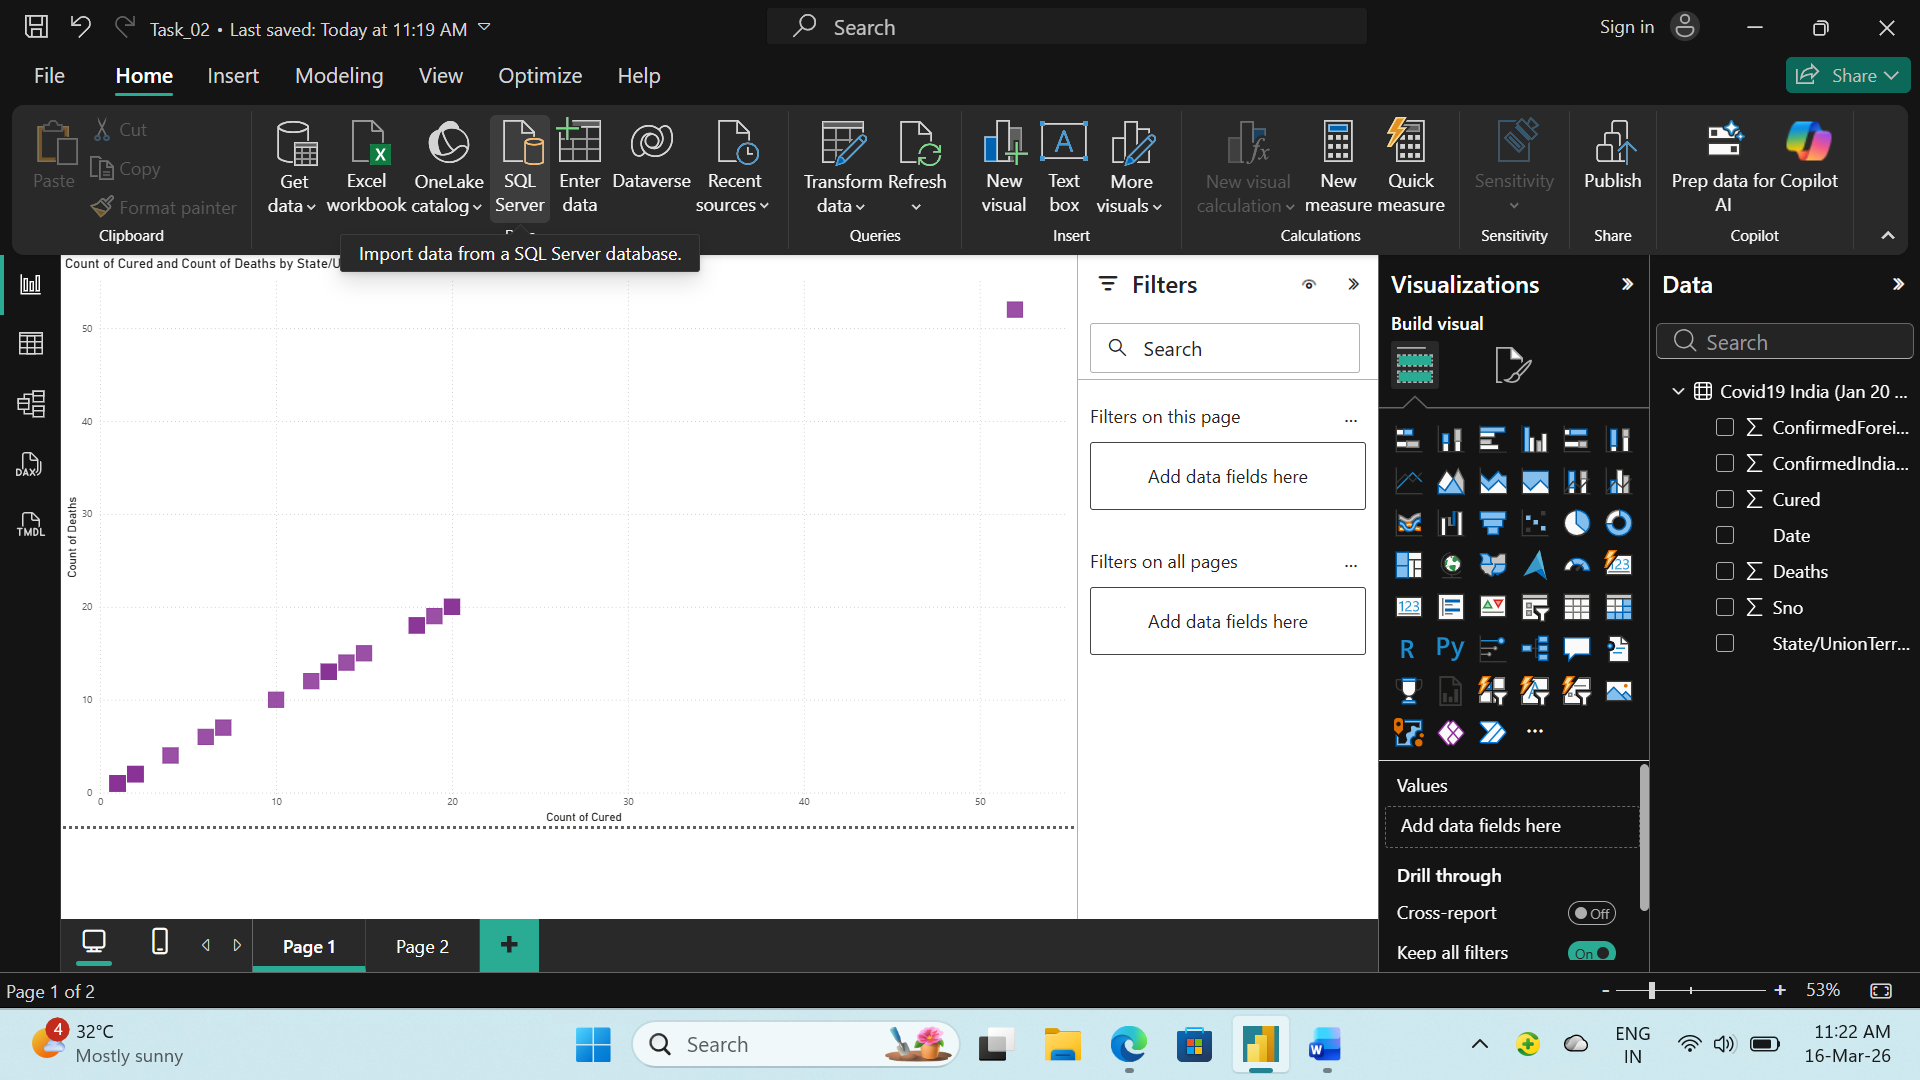

The page's visual inventory and layout, read from the dashboard file:
{"tool":"powerbi","page":{"name":"Page 1","canvas":[1280,720],"ordinal":0},"visuals":[{"type":"scatterChart","fields":{"X":["CountNonNull(Covid19 India (Jan 20 - Mar 20).Cured)"],"Category":["Covid19 India (Jan 20 - Mar 20).State/UnionTerritory"],"Y":["CountNonNull(Covid19 India (Jan 20 - Mar 20).Deaths)"]},"box":[0,0,1280,720],"z":0}]}

Visuals, with their boxes on the page's 1280x720 design canvas (x1, y1, x2, y2). These are canvas units, not pixel positions in the 1920x1080 screenshot, which may show the page scaled, cropped or inside an application window:
scatterChart - CountNonNull(Covid19 India (Jan 20 - Mar 20).Cured) x Covid19 India (Jan 20 - Mar 20).State/UnionTerritory: (0,0,1280,720)
